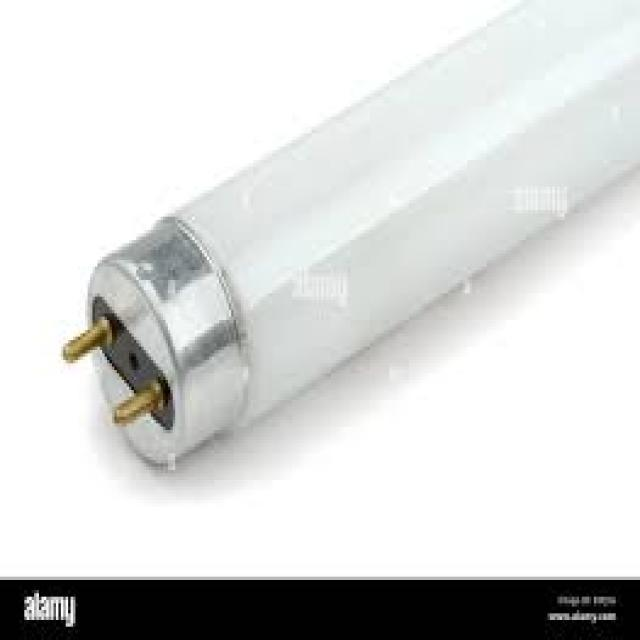tubelight_off: (43, 0, 640, 495)
